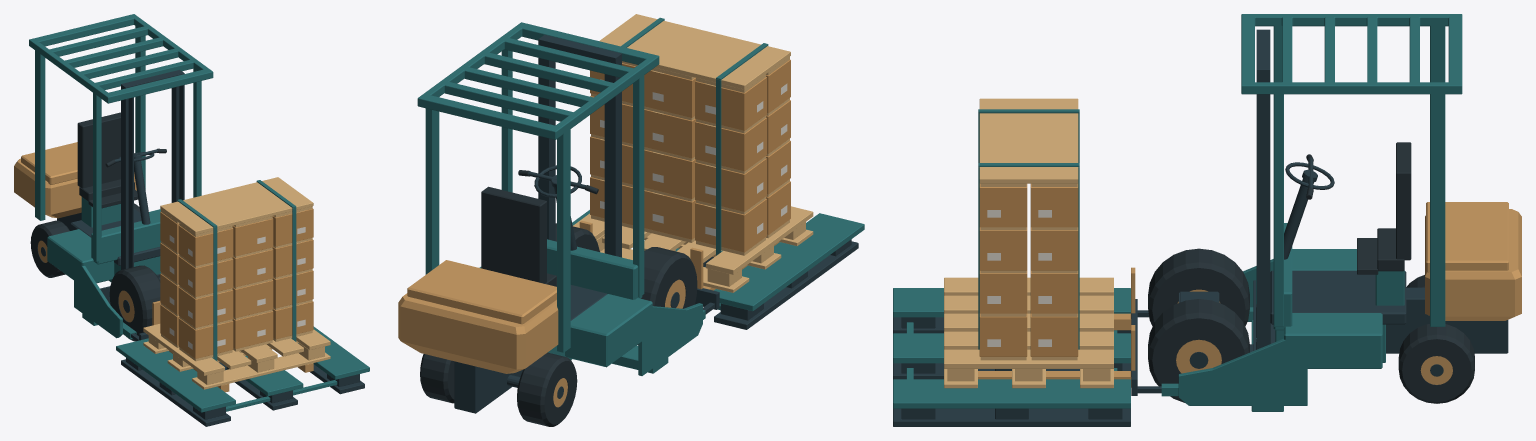
The model's file is forklift-pallet-low-fixture.glb.
The picture shows the model from 3 angles, left to right: view 1: azimuth 30°, elevation 25°; view 2: azimuth 150°, elevation 25°; view 3: azimuth 270°, elevation 25°; orthographic projection. The views are drawn at different scales.
Parts seen in each view (by area): view 1: forklift-pallet-low-fixture__batch_01, forklift-pallet-low-fixture__batch_28, forklift-pallet-low-fixture__batch_27, forklift-pallet-low-fixture__batch_00, forklift-pallet-low-fixture__batch_25, forklift-pallet-low-fixture__batch_02, forklift-pallet-low-fixture__batch_23, forklift-pallet-low-fixture__batch_24, forklift-pallet-low-fixture__batch_19, forklift-pallet-low-fixture__batch_26, forklift-pallet-low-fixture__batch_11; view 2: forklift-pallet-low-fixture__batch_01, forklift-pallet-low-fixture__batch_28, forklift-pallet-low-fixture__batch_27, forklift-pallet-low-fixture__batch_02, forklift-pallet-low-fixture__batch_00, forklift-pallet-low-fixture__batch_23, forklift-pallet-low-fixture__batch_25, forklift-pallet-low-fixture__batch_11, forklift-pallet-low-fixture__batch_19, forklift-pallet-low-fixture__batch_24, forklift-pallet-low-fixture__batch_26, forklift-pallet-low-fixture__batch_14 (+4 smaller); view 3: forklift-pallet-low-fixture__batch_01, forklift-pallet-low-fixture__batch_27, forklift-pallet-low-fixture__batch_28, forklift-pallet-low-fixture__batch_00, forklift-pallet-low-fixture__batch_25, forklift-pallet-low-fixture__batch_02, forklift-pallet-low-fixture__batch_24, forklift-pallet-low-fixture__batch_22, forklift-pallet-low-fixture__batch_19, forklift-pallet-low-fixture__batch_14, forklift-pallet-low-fixture__batch_23, forklift-pallet-low-fixture__batch_26 (+5 smaller).
Part boxes in pixels (bbox=[...]): forklift-pallet-low-fixture__batch_01: bbox=[29, 14, 213, 338]; forklift-pallet-low-fixture__batch_28: bbox=[160, 208, 313, 358]; forklift-pallet-low-fixture__batch_27: bbox=[143, 177, 330, 389]; forklift-pallet-low-fixture__batch_00: bbox=[57, 70, 184, 279]; forklift-pallet-low-fixture__batch_25: bbox=[116, 326, 369, 412]; forklift-pallet-low-fixture__batch_02: bbox=[14, 142, 136, 218]; forklift-pallet-low-fixture__batch_23: bbox=[77, 112, 138, 208]; forklift-pallet-low-fixture__batch_24: bbox=[121, 358, 364, 426]; forklift-pallet-low-fixture__batch_19: bbox=[109, 265, 160, 341]; forklift-pallet-low-fixture__batch_26: bbox=[177, 180, 296, 361]; forklift-pallet-low-fixture__batch_11: bbox=[30, 220, 69, 277]; forklift-pallet-low-fixture__batch_01: bbox=[417, 22, 702, 375]; forklift-pallet-low-fixture__batch_28: bbox=[590, 59, 790, 252]; forklift-pallet-low-fixture__batch_27: bbox=[573, 14, 813, 292]; forklift-pallet-low-fixture__batch_02: bbox=[398, 260, 558, 373]; forklift-pallet-low-fixture__batch_00: bbox=[454, 34, 621, 413]; forklift-pallet-low-fixture__batch_23: bbox=[481, 186, 556, 286]; forklift-pallet-low-fixture__batch_25: bbox=[572, 210, 864, 311]; forklift-pallet-low-fixture__batch_11: bbox=[517, 352, 577, 426]; forklift-pallet-low-fixture__batch_19: bbox=[641, 247, 697, 308]; forklift-pallet-low-fixture__batch_24: bbox=[703, 239, 858, 329]; forklift-pallet-low-fixture__batch_26: bbox=[621, 17, 768, 255]; forklift-pallet-low-fixture__batch_14: bbox=[420, 354, 454, 403]; forklift-pallet-low-fixture__batch_01: bbox=[1178, 14, 1462, 411]; forklift-pallet-low-fixture__batch_27: bbox=[944, 98, 1113, 388]; forklift-pallet-low-fixture__batch_28: bbox=[979, 183, 1078, 356]; forklift-pallet-low-fixture__batch_00: bbox=[1178, 29, 1508, 353]; forklift-pallet-low-fixture__batch_25: bbox=[893, 288, 1130, 408]; forklift-pallet-low-fixture__batch_02: bbox=[1425, 202, 1521, 320]; forklift-pallet-low-fixture__batch_24: bbox=[893, 317, 1130, 426]; forklift-pallet-low-fixture__batch_22: bbox=[1148, 299, 1249, 402]; forklift-pallet-low-fixture__batch_19: bbox=[1148, 248, 1249, 326]; forklift-pallet-low-fixture__batch_14: bbox=[1398, 324, 1474, 403]; forklift-pallet-low-fixture__batch_23: bbox=[1357, 142, 1411, 274]; forklift-pallet-low-fixture__batch_26: bbox=[978, 109, 1079, 349].
Bounding box in the file's own units: 1.6 × 2.1 × 3.7.
